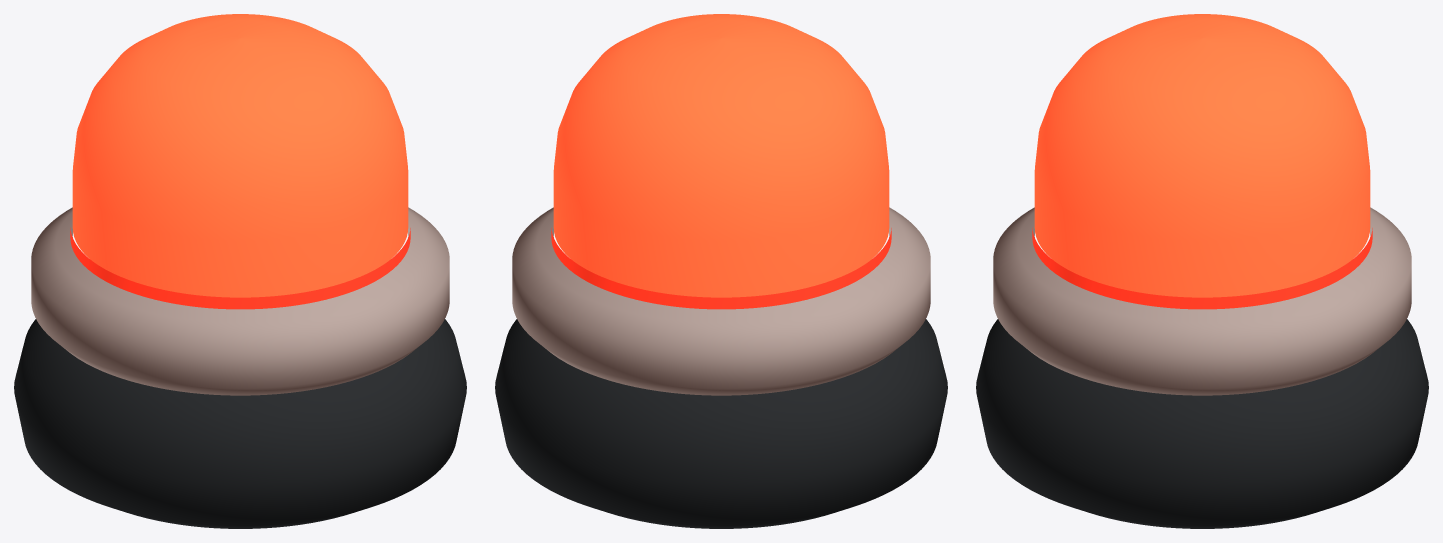
The model's file is BigRedButtonGlowLevel13.glb.
3 views of the same model, side by side, from view 1: azimuth 30°, elevation 25°; view 2: azimuth 150°, elevation 25°; view 3: azimuth 270°, elevation 25° (orthographic).
Parts seen in each view (by area): view 1: button, button_base, metal_bezel, cap_side_shadow; view 2: button, button_base, metal_bezel, cap_side_shadow; view 3: button, button_base, metal_bezel, cap_side_shadow.
Part boxes in pixels (x1,y1,x2,y2): button: (72, 14, 408, 297); button_base: (14, 319, 466, 528); metal_bezel: (31, 207, 449, 395); cap_side_shadow: (70, 228, 410, 309); button: (553, 14, 889, 297); button_base: (495, 319, 947, 528); metal_bezel: (512, 207, 930, 395); cap_side_shadow: (551, 228, 891, 309); button: (1034, 14, 1370, 297); button_base: (976, 319, 1428, 528); metal_bezel: (993, 207, 1411, 395); cap_side_shadow: (1032, 228, 1372, 309).
Bounding box in the file's own units: 0.0185 × 0.0185 × 0.0185.
